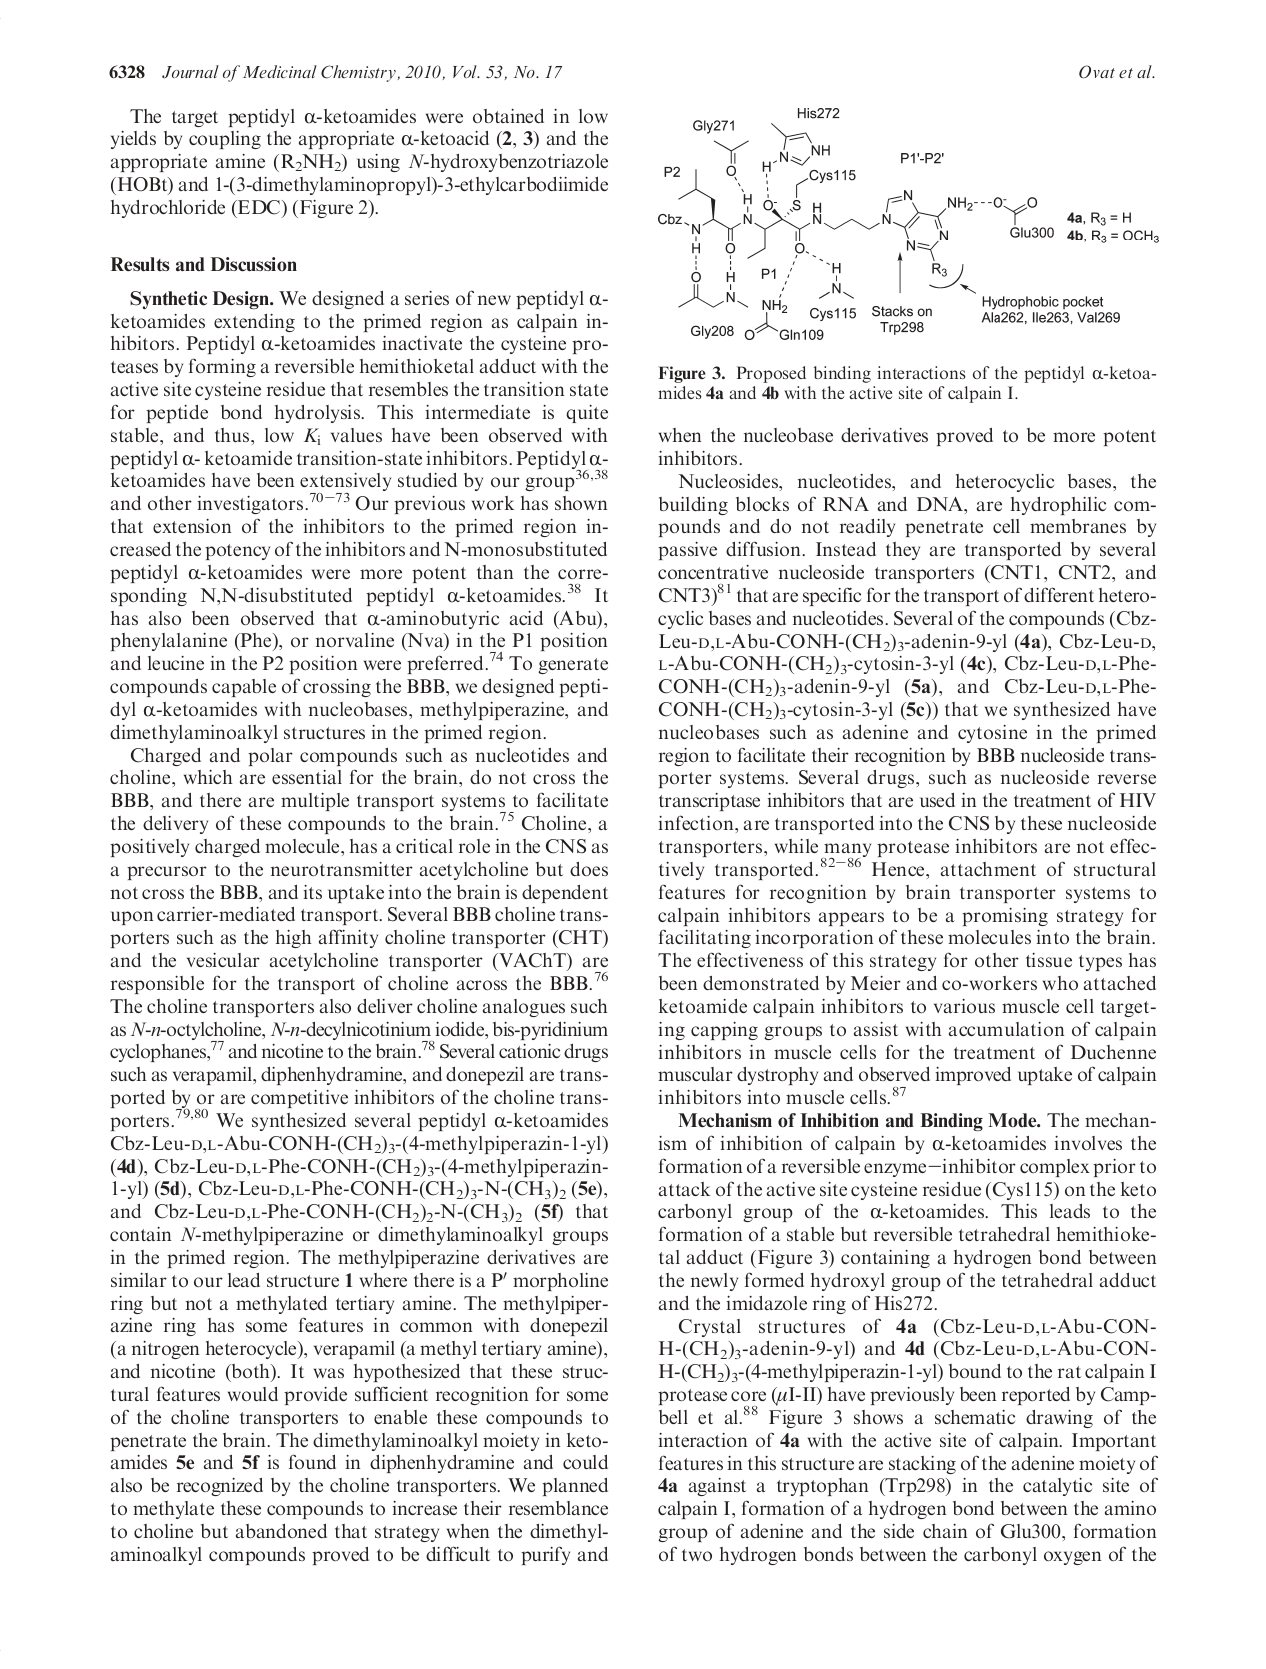exist_molecular: (654, 105, 1055, 343)
